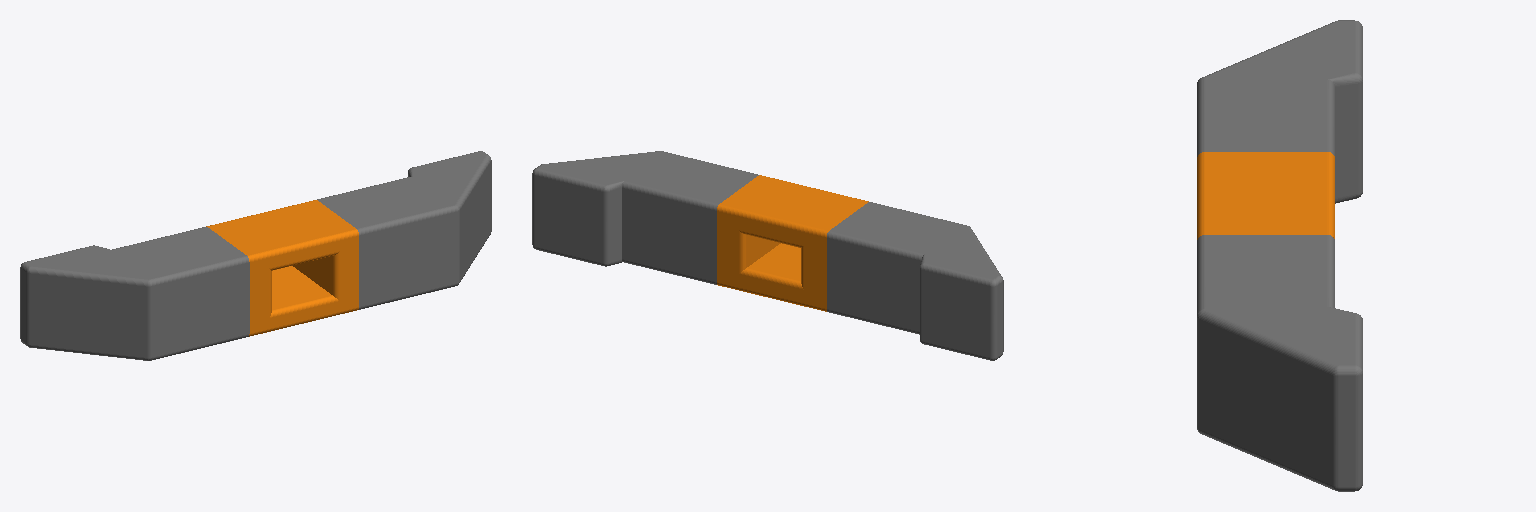
The robot description file, URDF, robot "beam_2x_0_sdf_hybrid":
<?xml version="1.0" encoding="utf-8"?>
<robot name="beam_2x_0_sdf_hybrid">
  <link name="base_link">
    <inertial>
      <mass value="0.05"/>
      <inertia ixx="1e-5" ixy="0" ixz="0" iyy="1e-5" iyz="0" izz="1e-5"/>
    </inertial>
  </link>
  <material name="tip">
    <color rgba="0.95 0.55 0.10 1.0"/>
  </material>
  <material name="body">
    <color rgba="0.50 0.50 0.50 1.0"/>
  </material>
  <link name="tip_link">
    <visual>
      <origin xyz="0.000000 0.000000 0.000000" rpy="0.000000 0.000000 0.000000"/>
      <geometry>
        <mesh filename="0_tip.obj" scale="1 1 1"/>
      </geometry>
      <material name="tip"/>
    </visual>
    <collision>
      <origin xyz="0.000000 0.000000 0.000000" rpy="0.000000 0.000000 0.000000"/>
      <geometry>
        <mesh filename="0_tip.obj" scale="1 1 1"/>
      </geometry>
      <sdf resolution="256"/>
    </collision>
  </link>
  <joint name="base_to_tip" type="fixed">
    <parent link="base_link"/>
    <child link="tip_link"/>
    <origin xyz="0 0 0" rpy="0 0 0"/>
  </joint>
  <link name="body_link">
    <visual>
      <origin xyz="0.000000 0.000000 0.000000" rpy="0.000000 0.000000 0.000000"/>
      <geometry>
        <mesh filename="coacd/decomp_0.obj" scale="1 1 1"/>
      </geometry>
      <material name="body"/>
    </visual>
    <collision>
      <origin xyz="0.000000 0.000000 0.000000" rpy="0.000000 0.000000 0.000000"/>
      <geometry>
        <mesh filename="coacd/decomp_0.obj" scale="1 1 1"/>
      </geometry>
    </collision>
    <visual>
      <origin xyz="0.000000 0.000000 0.000000" rpy="0.000000 0.000000 0.000000"/>
      <geometry>
        <mesh filename="coacd/decomp_1.obj" scale="1 1 1"/>
      </geometry>
      <material name="body"/>
    </visual>
    <collision>
      <origin xyz="0.000000 0.000000 0.000000" rpy="0.000000 0.000000 0.000000"/>
      <geometry>
        <mesh filename="coacd/decomp_1.obj" scale="1 1 1"/>
      </geometry>
    </collision>
    <visual>
      <origin xyz="0.000000 0.000000 0.000000" rpy="0.000000 0.000000 0.000000"/>
      <geometry>
        <mesh filename="coacd/decomp_2.obj" scale="1 1 1"/>
      </geometry>
      <material name="body"/>
    </visual>
    <collision>
      <origin xyz="0.000000 0.000000 0.000000" rpy="0.000000 0.000000 0.000000"/>
      <geometry>
        <mesh filename="coacd/decomp_2.obj" scale="1 1 1"/>
      </geometry>
    </collision>
    <visual>
      <origin xyz="0.000000 0.000000 0.000000" rpy="0.000000 0.000000 0.000000"/>
      <geometry>
        <mesh filename="coacd/decomp_3.obj" scale="1 1 1"/>
      </geometry>
      <material name="body"/>
    </visual>
    <collision>
      <origin xyz="0.000000 0.000000 0.000000" rpy="0.000000 0.000000 0.000000"/>
      <geometry>
        <mesh filename="coacd/decomp_3.obj" scale="1 1 1"/>
      </geometry>
    </collision>
  </link>
  <joint name="base_to_body" type="fixed">
    <parent link="base_link"/>
    <child link="body_link"/>
    <origin xyz="0 0 0" rpy="0 0 0"/>
  </joint>
</robot>

--- Facts derived from the render (not from the file) ---
3 views of the same robot in one strip: view 1: azimuth 30°, elevation 25°; view 2: azimuth 150°, elevation 25°; view 3: azimuth 270°, elevation 25° (orthographic).
Robot: beam_2x_0_sdf_hybrid — 3 links, 2 joints (2 fixed); root link base_link; default pose: every joint at zero.
Links seen in each view (by area): view 1: body_link, tip_link; view 2: body_link, tip_link; view 3: body_link, tip_link.
Boxes of the visible links, x1,y1,x2,y2 form: body_link: (20,151,491,360); tip_link: (206,200,358,336); body_link: (532,151,1003,360); tip_link: (717,175,868,311); body_link: (1197,20,1362,491); tip_link: (1197,152,1334,239).
Size in the robot's own frame: 0.1524 by 0.0305 by 0.0254 metres.
5 mesh visuals loaded from 5 distinct referenced files (5 OBJ).
